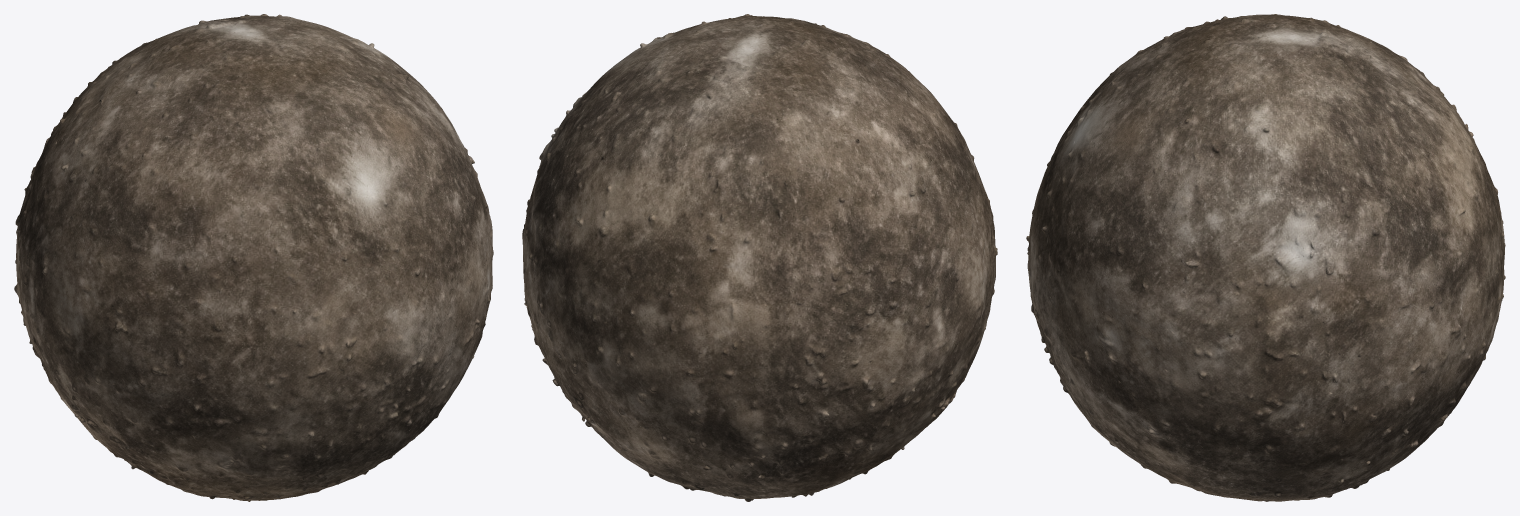
The model's file is mercurio.glb.
The picture shows the model from 3 angles, left to right: view 1: azimuth 30°, elevation 25°; view 2: azimuth 150°, elevation 25°; view 3: azimuth 270°, elevation 25°; orthographic projection.
Visible parts, largest first — view 1: world; view 2: world; view 3: world.
Part boxes in pixels (left/top/right/bottom): world: left=14, top=14, right=493, bottom=501; world: left=522, top=14, right=997, bottom=501; world: left=1026, top=14, right=1505, bottom=501.
Size of the model in its own units: 0.9847 by 1 by 0.9798.
1 material, 1 textured.
